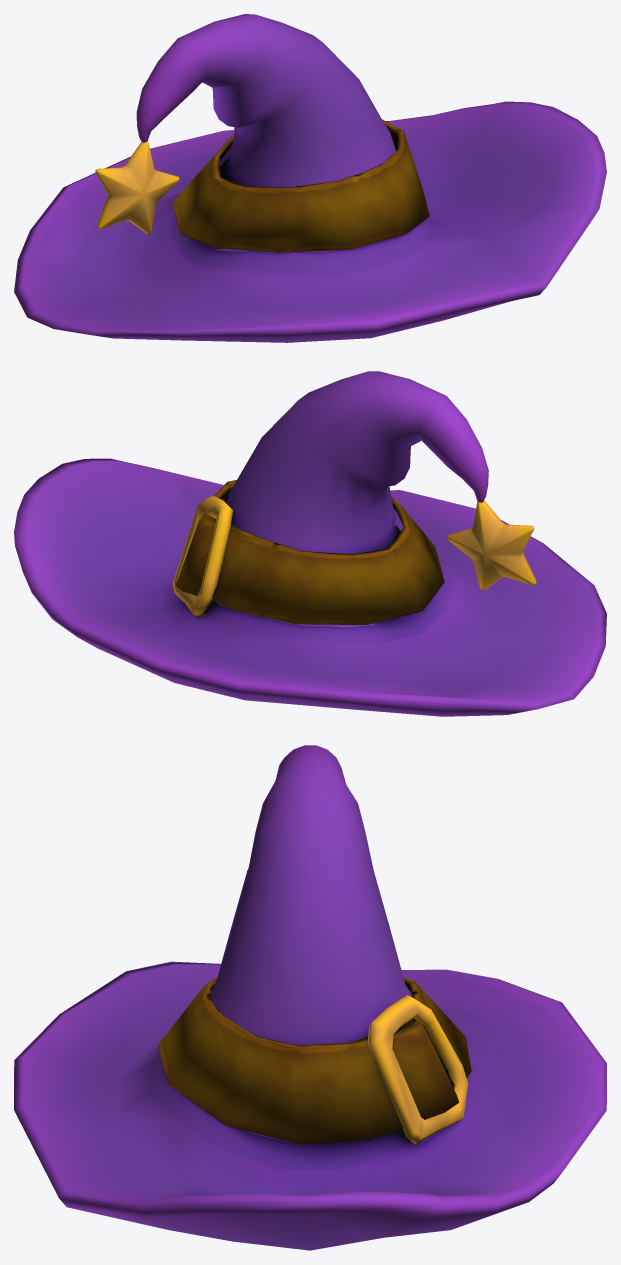
The model's file is WitchHat.fbx.
3 views of the same model, one above another, from view 1: azimuth 30°, elevation 25°; view 2: azimuth 150°, elevation 25°; view 3: azimuth 270°, elevation 25° (orthographic). The views are drawn at different scales.
Parts seen in each view (by area): view 1: U_WitchHat, U_WitchHat_Belt, U_WitchHat_Star; view 2: U_WitchHat, U_WitchHat_Belt, U_WitchHat_Star, U_WitchHat_Ring; view 3: U_WitchHat, U_WitchHat_Belt, U_WitchHat_Ring.
Part boxes in pixels (x1,y1,x2,y2): U_WitchHat: (14, 14, 606, 342); U_WitchHat_Belt: (173, 119, 429, 252); U_WitchHat_Star: (95, 141, 179, 234); U_WitchHat: (14, 371, 606, 716); U_WitchHat_Belt: (175, 480, 444, 624); U_WitchHat_Star: (447, 500, 536, 590); U_WitchHat_Ring: (172, 495, 233, 617); U_WitchHat: (14, 745, 606, 1250); U_WitchHat_Belt: (157, 976, 471, 1144); U_WitchHat_Ring: (367, 995, 467, 1144).
Bounding box in the file's own units: 156 × 75.06 × 120.
1 material, 1 textured.
